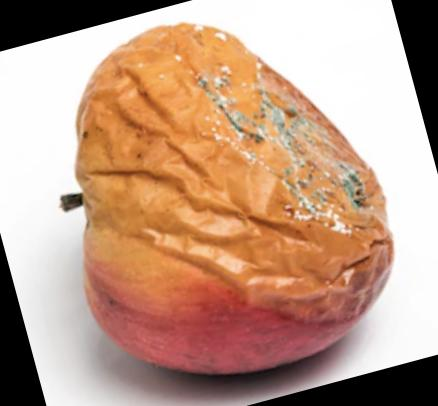Banana: (71, 20, 393, 379)
